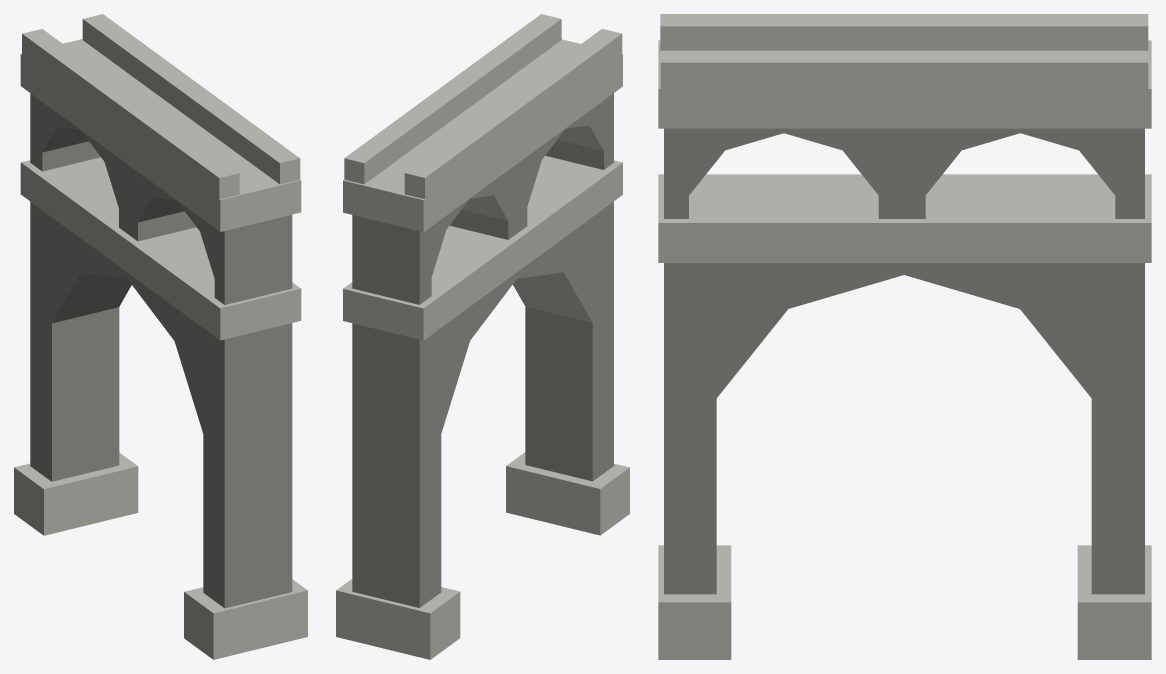
File: aquaduct_straight.fbx
The picture shows the model from 3 angles, left to right: view 1: azimuth 30°, elevation 25°; view 2: azimuth 150°, elevation 25°; view 3: azimuth 270°, elevation 25°; orthographic projection. The views are drawn at different scales.
Visible parts, largest first — view 1: polySurface267; view 2: polySurface267; view 3: polySurface267.
Boxes of the visible parts, <box> form: polySurface267: <box>14,14,307,659</box>; polySurface267: <box>336,14,629,659</box>; polySurface267: <box>658,14,1151,659</box>.
Bounding box in the file's own units: 28 × 136 × 103.
Materials: 1 (1 with a texture image).
